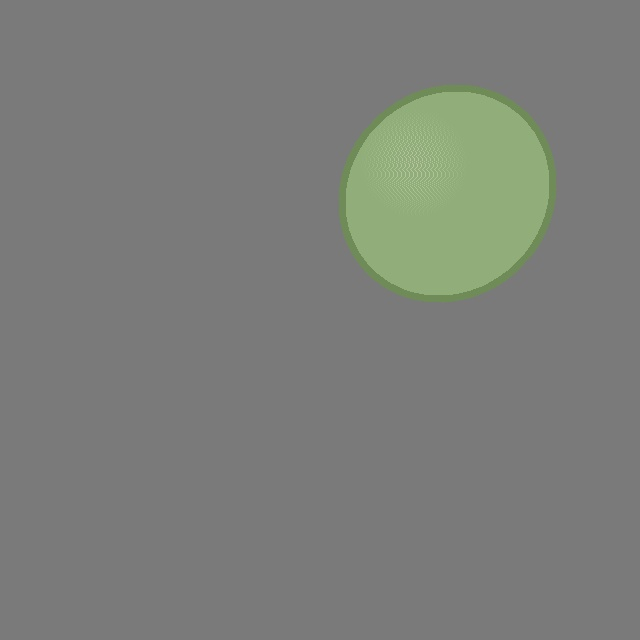lens: (342, 88, 552, 298)
